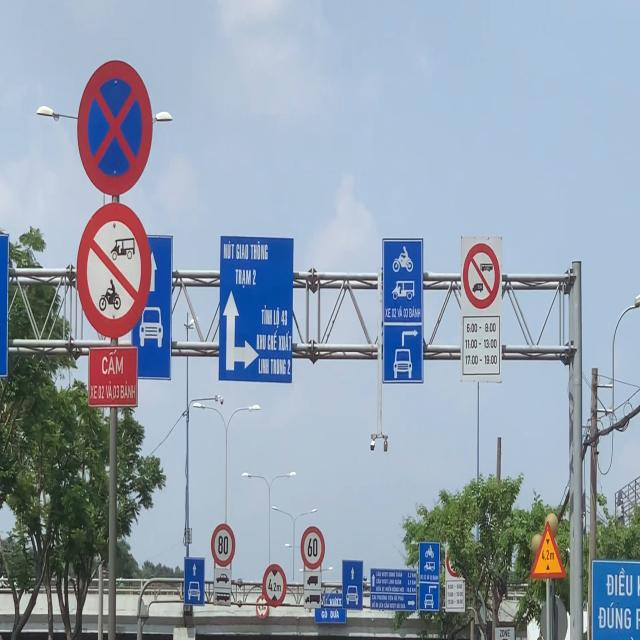Cam con lai: (77, 201, 152, 342), (463, 241, 500, 309)
Cam dung va do: (72, 52, 156, 199)
Chieu cao toi da: (261, 562, 288, 608)
Nguy hiem: (528, 519, 568, 583)
Toc do toi da: (208, 520, 238, 568), (299, 523, 328, 571)
